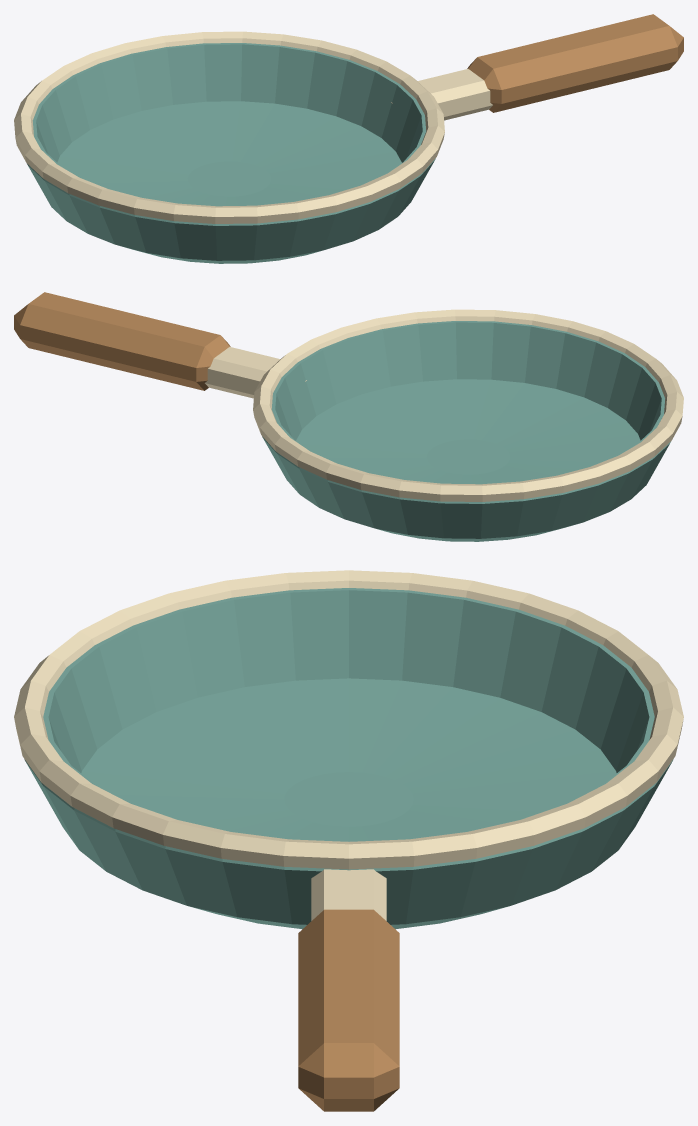
3 renders of one model, top to bottom at view 1: azimuth 30°, elevation 25°; view 2: azimuth 150°, elevation 25°; view 3: azimuth 270°, elevation 25°, orthographic. The views are drawn at different scales.
Visible parts, largest first — view 1: kitchen-frying-pan-01; view 2: kitchen-frying-pan-01; view 3: kitchen-frying-pan-01.
Part boxes in pixels (<box>): kitchen-frying-pan-01: <box>14,14,683,263</box>; kitchen-frying-pan-01: <box>14,292,683,541</box>; kitchen-frying-pan-01: <box>14,570,683,1111</box>.
Size of the model in its own units: 0.525 by 0.063 by 0.31.
